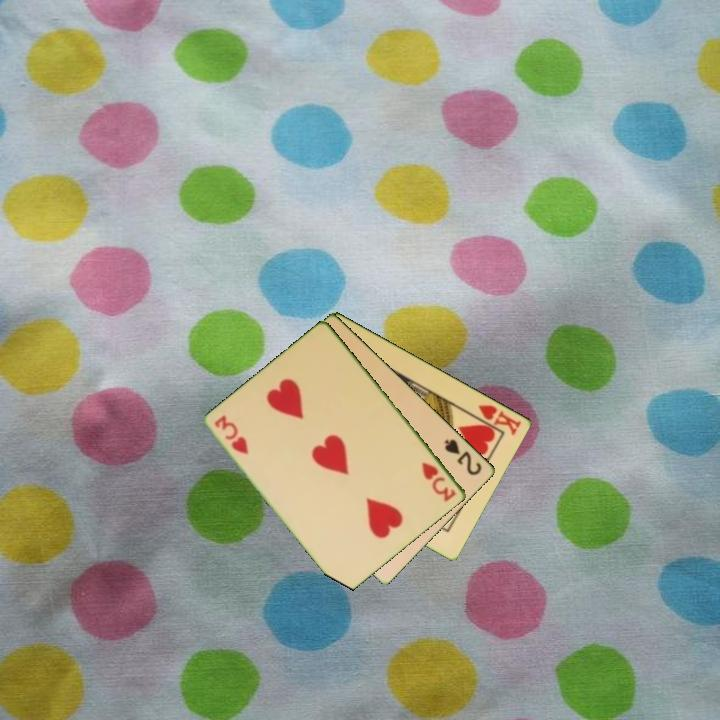2s: (441, 435, 485, 478)
3h: (418, 458, 459, 505), (211, 411, 252, 458)
Kh: (467, 401, 525, 438)
